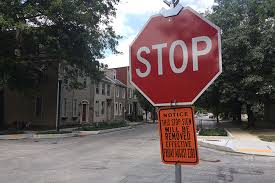stop: (123, 5, 228, 110)
